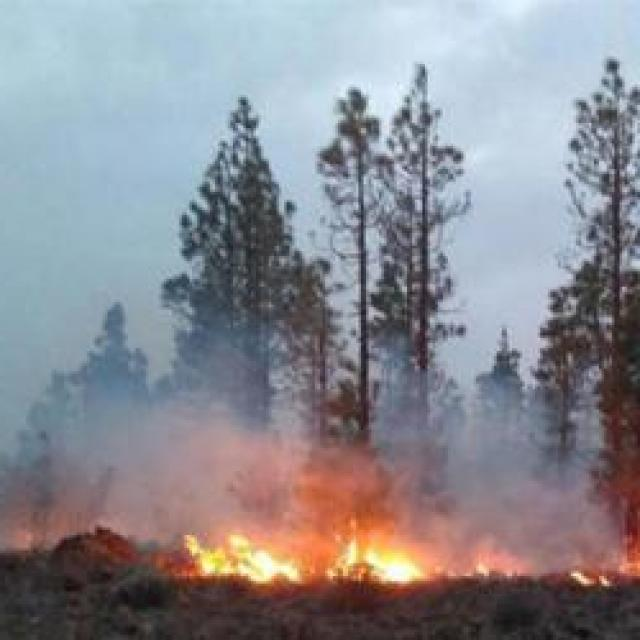fire: (194, 532, 306, 584), (361, 551, 423, 587)
smoke: (0, 365, 255, 538), (442, 428, 622, 580), (287, 436, 399, 536)
